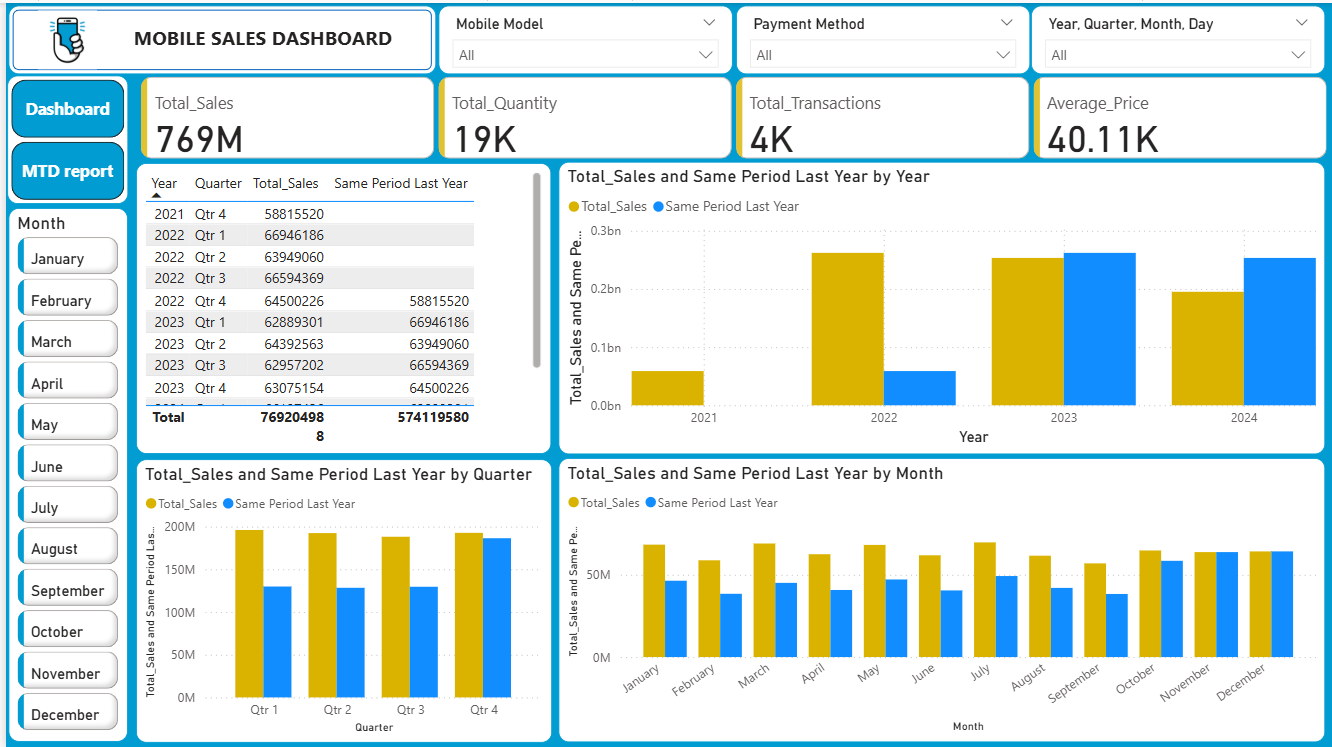

Layout of this report page (visuals, bound fields, positions):
{"tool":"powerbi","page":{"name":"Same Period Last Year","canvas":[1280,720],"ordinal":2},"visuals":[{"type":"cardVisual","fields":{"Data":["Custom_Calender.Total_Sales","Custom_Calender.Total_Quantity","Mobile_Sales_Data.Total_Transactions","Mobile_Sales_Data.Average_Price"]},"box":[125.5,66.4,1154.2,89.5],"z":0},{"type":"slicer","fields":{"Values":["Mobile_Sales_Data.Mobile Model"]},"box":[417,2.9,284.2,66.4],"z":1000},{"type":"slicer","fields":{"Values":["Mobile_Sales_Data.Payment Method"]},"box":[704.1,2.9,284.2,66.4],"z":2000},{"type":"slicer","fields":{"Values":["Custom_Calender.Date.Variation.Date Hierarchy.Year","Custom_Calender.Date.Variation.Date Hierarchy.Quarter","Custom_Calender.Date.Variation.Date Hierarchy.Month","Custom_Calender.Date.Variation.Date Hierarchy.Day"]},"box":[989.7,2.9,284.2,66.4],"z":3000},{"type":"shape","box":[2.9,2.9,412.6,66.4],"z":4000},{"type":"textbox","box":[118.3,15.9,290,40.4],"z":5000},{"type":"advancedSlicerVisual","fields":{"Values":["Custom_Calender.Date.Variation.Date Hierarchy.Month"]},"box":[2.9,197.7,115.4,515.1],"z":6000},{"type":"tableEx","fields":{"Values":["Custom_Calender.Date.Variation.Date Hierarchy.Year","Custom_Calender.Date.Variation.Date Hierarchy.Quarter","Custom_Calender.Total_Sales","Mobile_Sales_Data.Same Period Last Year"]},"box":[125.5,154.4,400.5,281.1],"z":7000},{"type":"clusteredColumnChart","fields":{"Category":["Custom_Calender.Date.Variation.Date Hierarchy.Year","Custom_Calender.Date.Variation.Date Hierarchy.Quarter"],"Y":["Custom_Calender.Total_Sales","Mobile_Sales_Data.Same Period Last Year"]},"box":[533.8,152.9,740.1,282.8],"z":8000},{"type":"clusteredColumnChart","fields":{"Y":["Custom_Calender.Total_Sales","Mobile_Sales_Data.Same Period Last Year"],"Category":["Custom_Calender.Date.Variation.Date Hierarchy.Month","Custom_Calender.Date.Variation.Date Hierarchy.Day"]},"box":[533.8,438.6,740.1,274.1],"z":9000},{"type":"clusteredColumnChart","fields":{"Category":["Custom_Calender.Date.Variation.Date Hierarchy.Year","Custom_Calender.Date.Variation.Date Hierarchy.Quarter"],"Y":["Custom_Calender.Total_Sales","Mobile_Sales_Data.Same Period Last Year"]},"box":[125.5,440.4,401.7,273.9],"z":10000},{"type":"pageNavigator","box":[1.2,70,117,124.3],"z":11000},{"type":"image","box":[23.1,2.9,73.6,66.4],"z":12000}]}

Visuals, with their boxes in screenshot pixels (x1, y1, x2, y2), scaled from the page's 1280x720 canvas onto the 1332x747 screenshot:
cardVisual - Custom_Calender.Total_Sales x Custom_Calender.Total_Quantity: x1=131, y1=69, x2=1331, y2=162
slicer - Mobile_Sales_Data.Mobile Model: x1=434, y1=3, x2=730, y2=72
slicer - Mobile_Sales_Data.Payment Method: x1=733, y1=3, x2=1028, y2=72
slicer - Custom_Calender.Date.Variation.Date Hierarchy.Year x Custom_Calender.Date.Variation.Date Hierarchy.Quarter: x1=1030, y1=3, x2=1326, y2=72
shape: x1=3, y1=3, x2=432, y2=72
textbox: x1=123, y1=16, x2=425, y2=58
advancedSlicerVisual - Custom_Calender.Date.Variation.Date Hierarchy.Month: x1=3, y1=205, x2=123, y2=740
tableEx - Custom_Calender.Date.Variation.Date Hierarchy.Year x Custom_Calender.Date.Variation.Date Hierarchy.Quarter: x1=131, y1=160, x2=547, y2=452
clusteredColumnChart - Custom_Calender.Date.Variation.Date Hierarchy.Year x Custom_Calender.Date.Variation.Date Hierarchy.Quarter: x1=555, y1=159, x2=1326, y2=452
clusteredColumnChart - Custom_Calender.Total_Sales x Mobile_Sales_Data.Same Period Last Year: x1=555, y1=455, x2=1326, y2=739
clusteredColumnChart - Custom_Calender.Date.Variation.Date Hierarchy.Year x Custom_Calender.Date.Variation.Date Hierarchy.Quarter: x1=131, y1=457, x2=549, y2=741
pageNavigator: x1=1, y1=73, x2=123, y2=202
image: x1=24, y1=3, x2=101, y2=72
